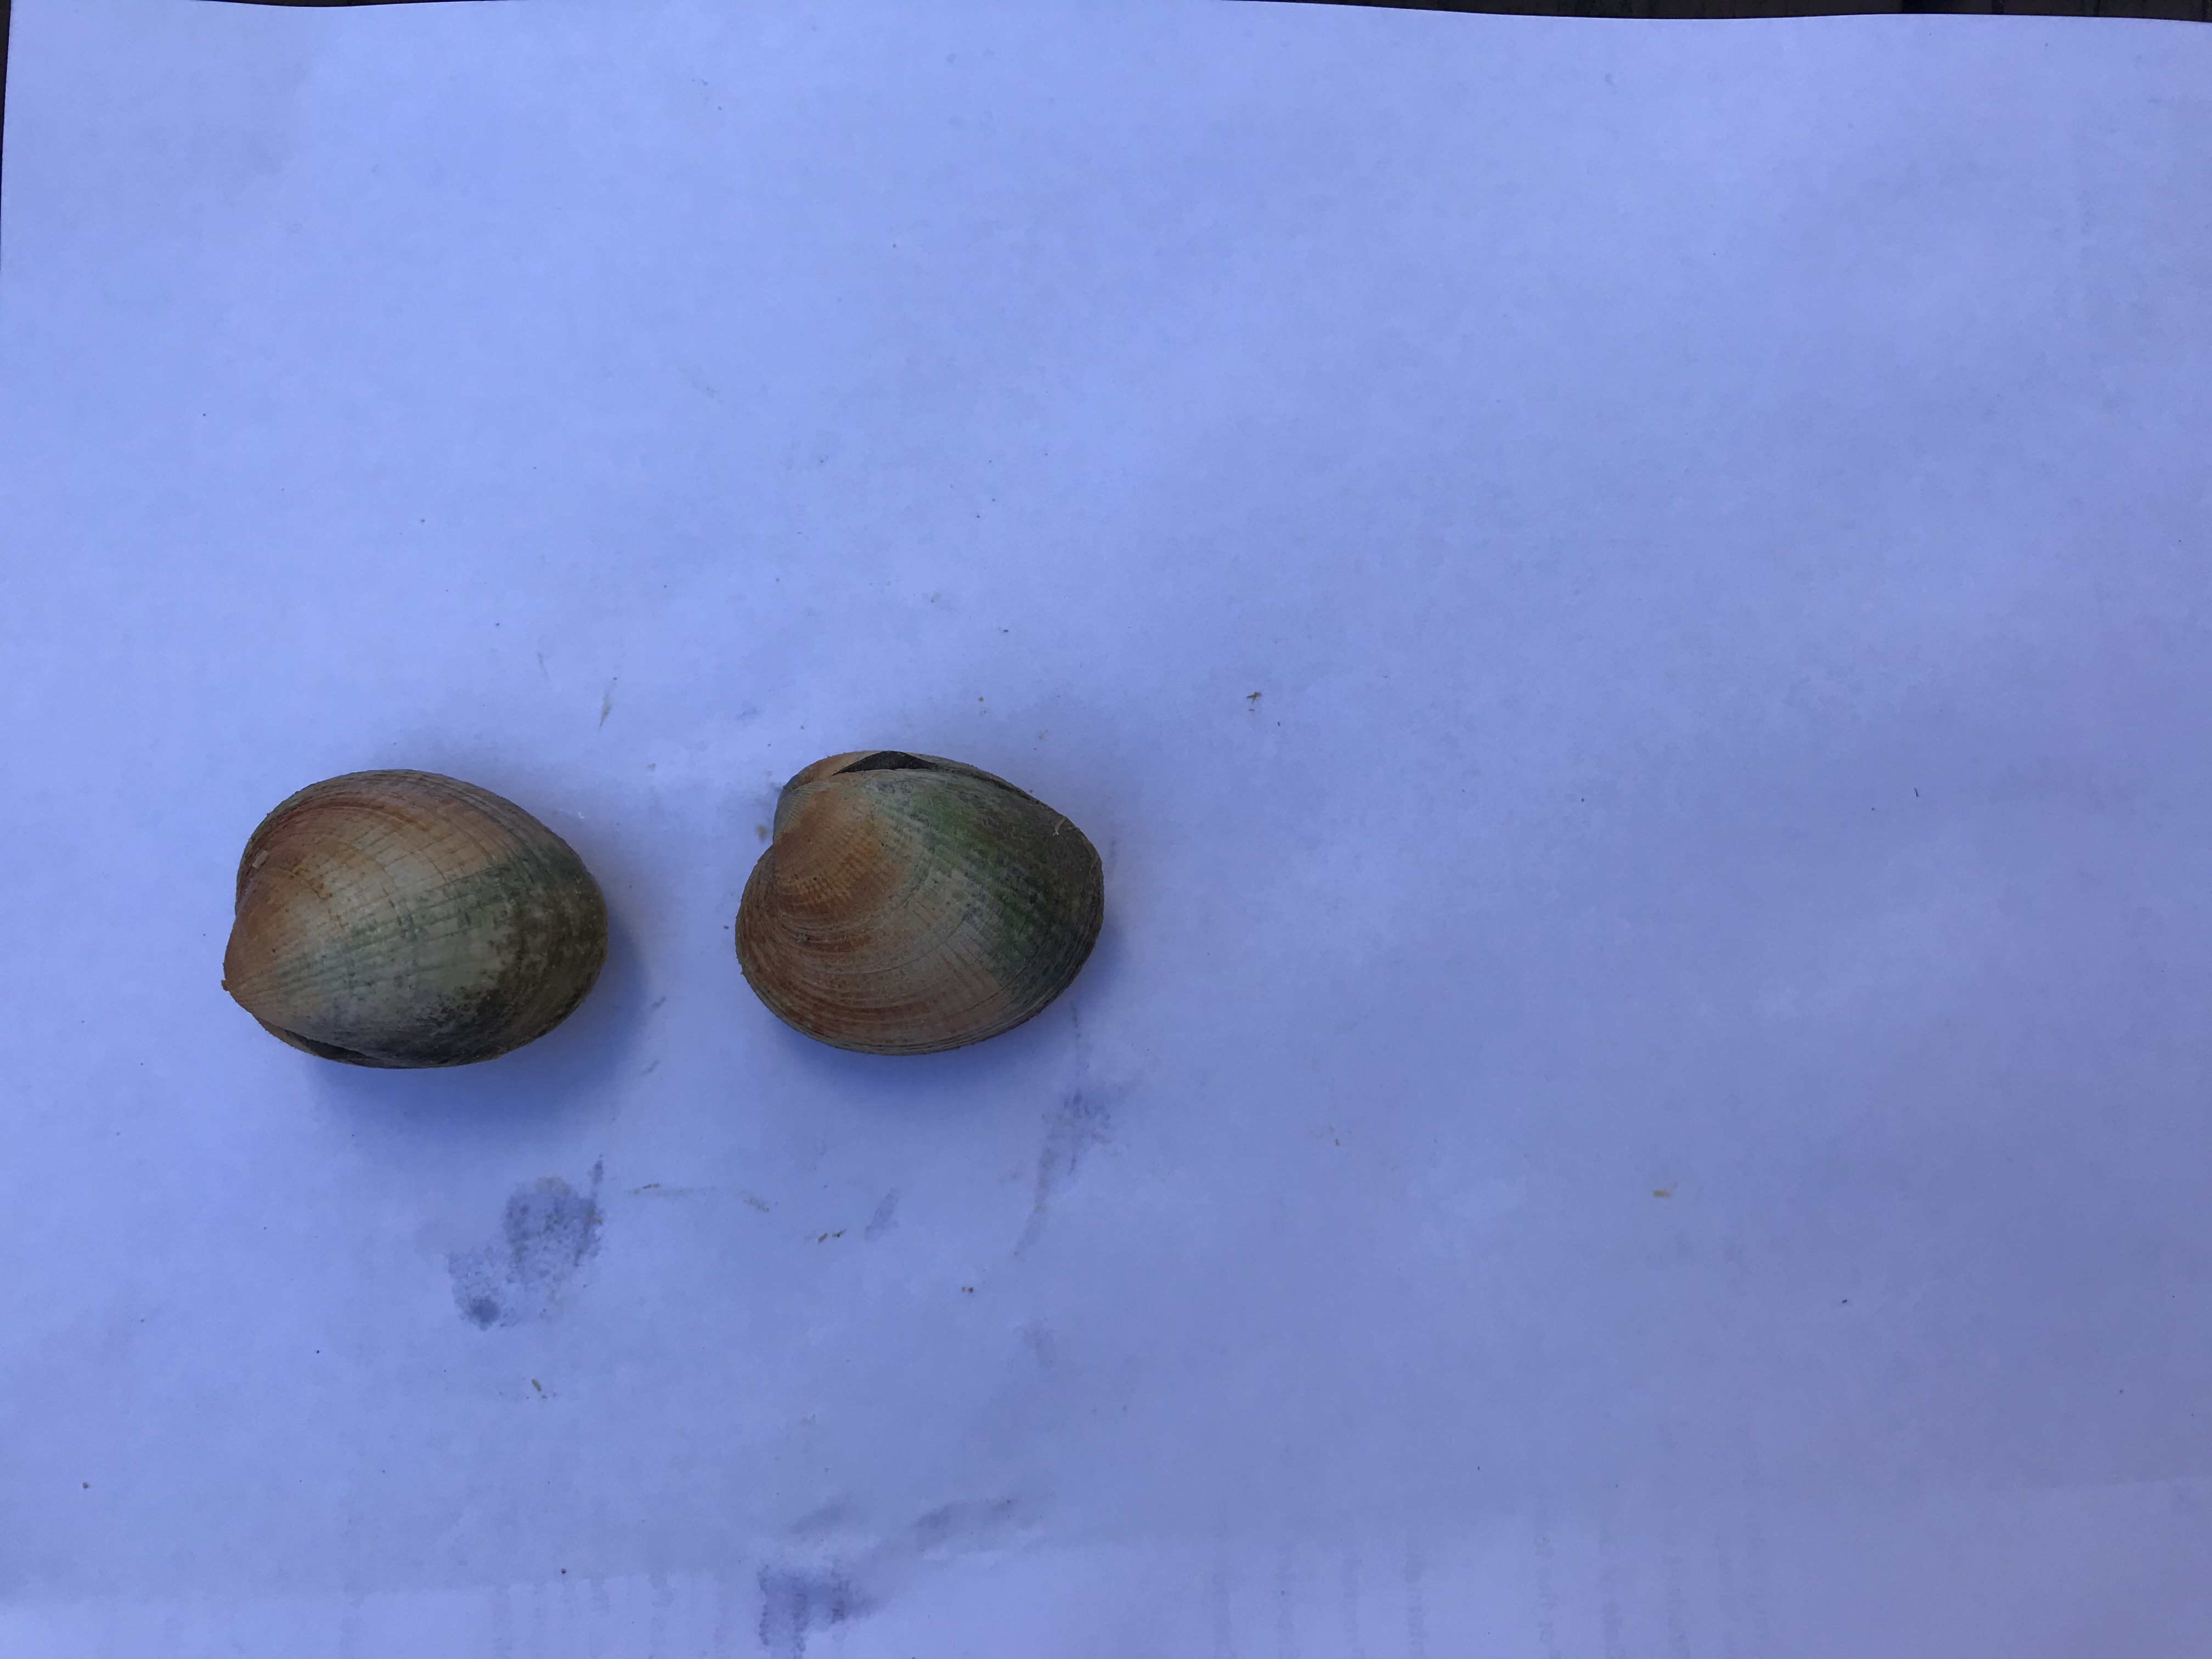cockle: (732, 746, 1116, 1061), (219, 767, 617, 1070)
